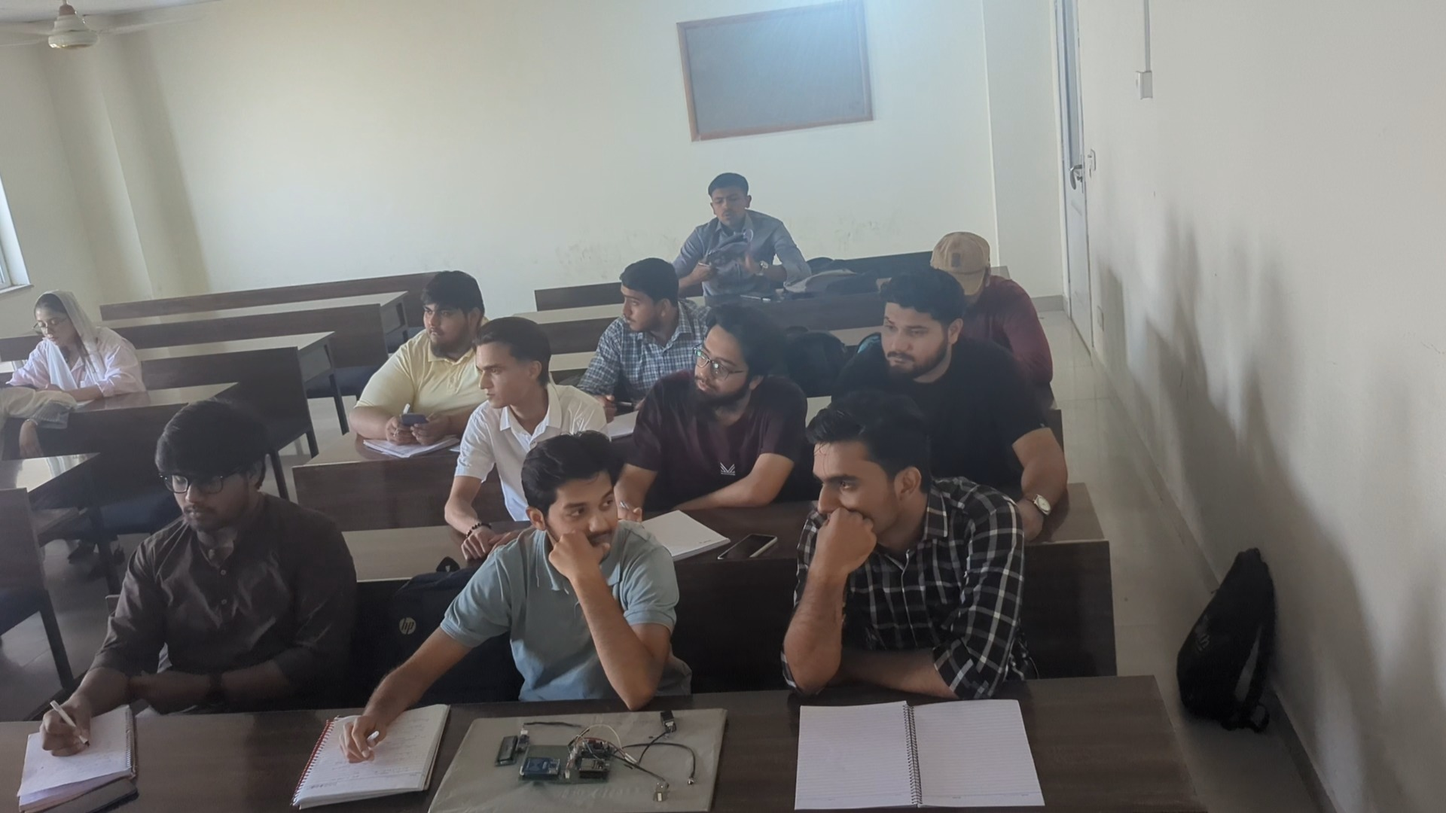look_forward: (781, 394, 1031, 703), (629, 309, 799, 493), (838, 267, 1001, 402), (450, 317, 579, 439), (595, 254, 692, 354)
read: (0, 283, 152, 414), (944, 231, 1066, 390), (675, 171, 808, 288)
turn_head: (479, 430, 675, 707)
using_device: (339, 261, 485, 452)
write: (34, 398, 344, 756)
